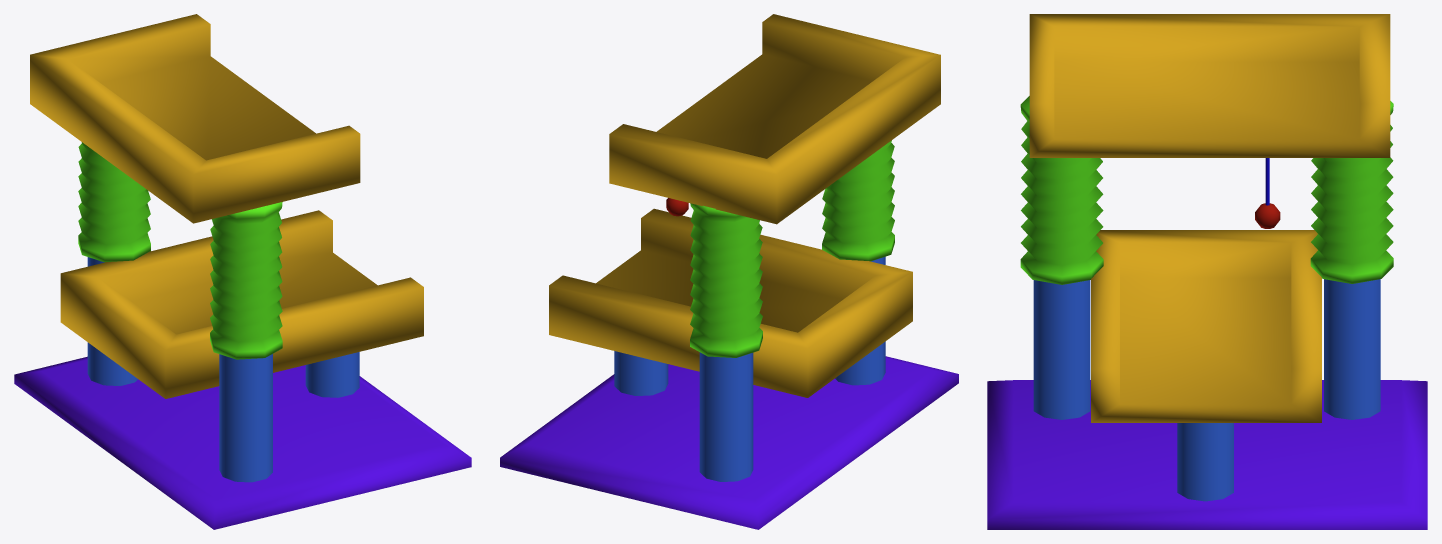
File: Cat Tree.fbx
The picture shows the model from 3 angles, left to right: view 1: azimuth 30°, elevation 25°; view 2: azimuth 150°, elevation 25°; view 3: azimuth 270°, elevation 25°; orthographic projection. The views are drawn at different scales.
Parts seen in each view (by area): view 1: Cat Tree; view 2: Cat Tree; view 3: Cat Tree.
Part boxes in pixels (bbox=[...]): Cat Tree: bbox=[14, 14, 471, 529]; Cat Tree: bbox=[500, 14, 958, 529]; Cat Tree: bbox=[987, 14, 1427, 529].
Size of the model in its own units: 29.96 by 37.77 by 40.
